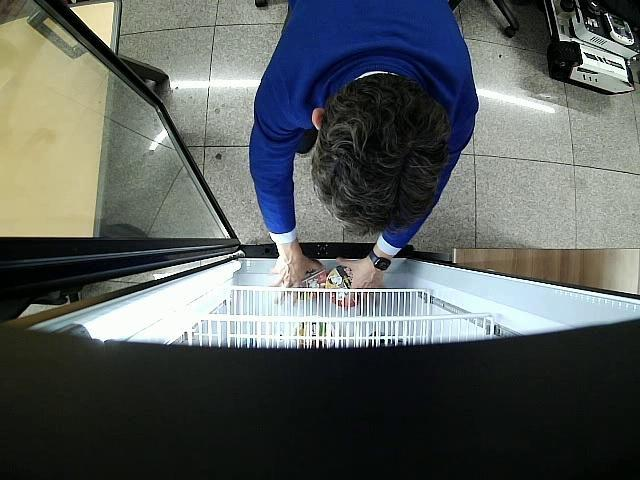07_buldak_L: (288, 259, 326, 300), (326, 267, 359, 306)
